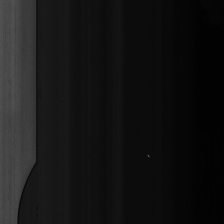crescent_gap: (12, 153, 40, 224)
